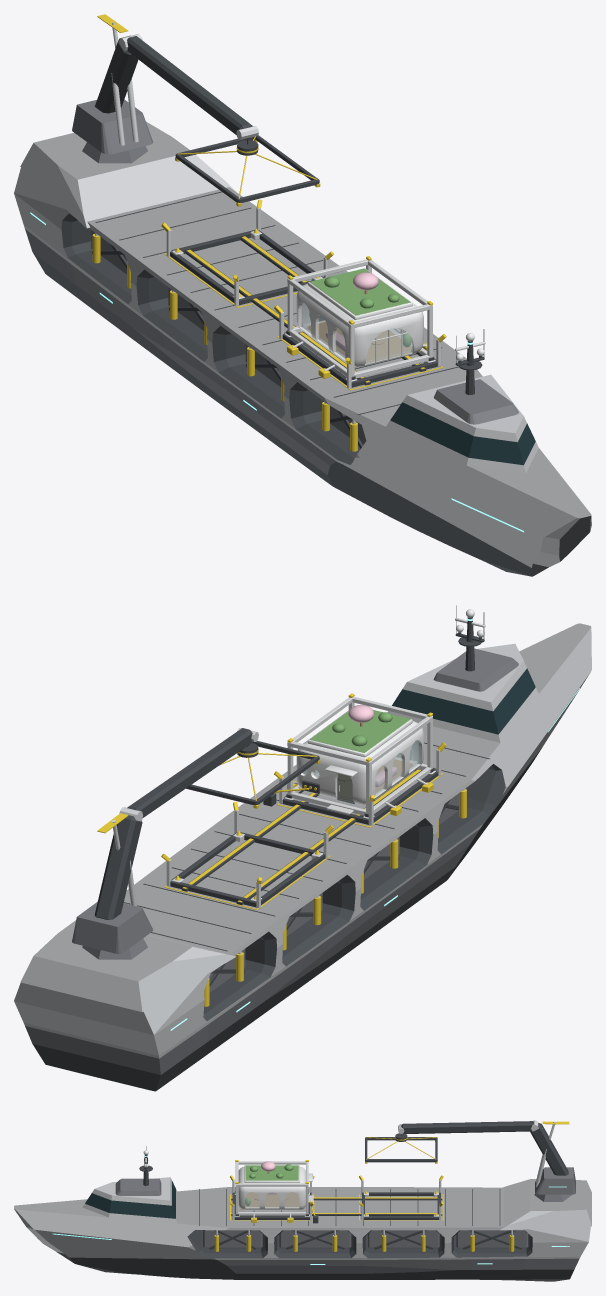
File: module-carrier.glb
The picture shows the model from 3 angles, top to bottom: view 1: azimuth 30°, elevation 25°; view 2: azimuth 150°, elevation 25°; view 3: azimuth 270°, elevation 25°; orthographic projection. The views are drawn at different scales.
Parts seen in each view (by area): view 1: carrier_hull, carrier_stern_block, carrier_bridge, carrier_room_shell, carrier_crane_house, carrier_boom2, carrier_bridge_top, carrier_room_soil, carrier_boom1, carrier_room_front_glass, carrier_room_floor, carrier_mast (+1 smaller); view 2: carrier_hull, carrier_stern_block, carrier_bridge, carrier_room_shell, carrier_crane_house, carrier_boom1, carrier_boom2, carrier_bridge_top, carrier_room_soil, carrier_mast, carrier_skid-1, carrier_skid_top-1; view 3: carrier_hull, carrier_stern_block, carrier_bridge, carrier_boom2, carrier_room_shell, carrier_hold1, carrier_hold3, carrier_hold2, carrier_crane_house, carrier_hold0, carrier_boom1, carrier_bridge_top (+14 smaller).
Boxes of the visible parts, x1=… form: carrier_hull: x1=14, y1=163, x2=591, y2=576; carrier_stern_block: x1=20, y1=121, x2=235, y2=228; carrier_bridge: x1=384, y1=374, x2=538, y2=473; carrier_room_shell: x1=296, y1=280, x2=423, y2=367; carrier_crane_house: x1=72, y1=99, x2=153, y2=154; carrier_boom2: x1=127, y1=36, x2=252, y2=139; carrier_bridge_top: x1=434, y1=379, x2=518, y2=424; carrier_room_soil: x1=310, y1=268, x2=410, y2=315; carrier_boom1: x1=94, y1=35, x2=138, y2=113; carrier_room_front_glass: x1=365, y1=328, x2=412, y2=364; carrier_room_floor: x1=298, y1=320, x2=421, y2=367; carrier_mast: x1=455, y1=329, x2=485, y2=394; carrier_hull: x1=14, y1=623, x2=591, y2=1091; carrier_stern_block: x1=20, y1=920, x2=236, y2=1012; carrier_bridge: x1=387, y1=643, x2=538, y2=744; carrier_room_shell: x1=296, y1=710, x2=423, y2=804; carrier_crane_house: x1=72, y1=902, x2=153, y2=953; carrier_boom1: x1=94, y1=815, x2=142, y2=919; carrier_boom2: x1=127, y1=728, x2=252, y2=817; carrier_bridge_top: x1=433, y1=648, x2=518, y2=691; carrier_room_soil: x1=310, y1=710, x2=410, y2=752; carrier_mast: x1=455, y1=605, x2=485, y2=671; carrier_skid-1: x1=236, y1=770, x2=421, y2=905; carrier_skid_top-1: x1=238, y1=769, x2=420, y2=902; carrier_hull: x1=14, y1=1187, x2=590, y2=1281; carrier_stern_block: x1=500, y1=1179, x2=591, y2=1230; carrier_bridge: x1=82, y1=1177, x2=177, y2=1225; carrier_boom2: x1=401, y1=1121, x2=533, y2=1133; carrier_room_shell: x1=238, y1=1166, x2=305, y2=1210; carrier_hold1: x1=279, y1=1230, x2=351, y2=1248; carrier_hold3: x1=456, y1=1230, x2=528, y2=1248; carrier_hold2: x1=368, y1=1230, x2=439, y2=1248; carrier_crane_house: x1=535, y1=1167, x2=575, y2=1194; carrier_hold0: x1=203, y1=1230, x2=262, y2=1248; carrier_boom1: x1=530, y1=1123, x2=568, y2=1175; carrier_bridge_top: x1=115, y1=1178, x2=161, y2=1195.
Size of the model in its own units: 13.04 by 21.84 by 76.1.
